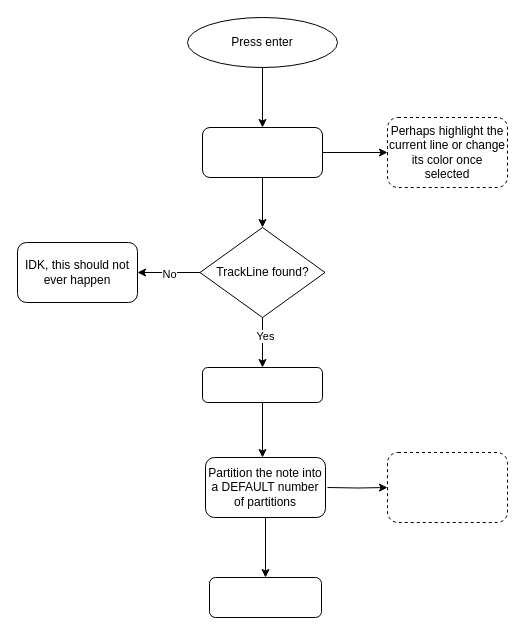
This 525x635 diagram has some shape labels left out. The shapes that lost their labels are listed below. From the top down, each one's centre as x and y in pixels, then its label:
[262,152]: Use selected beat to look for matching TrackLine
[262,384]: Enable note edit mode
[447,487]: Perhaps DEFAULT = 10 start with that
